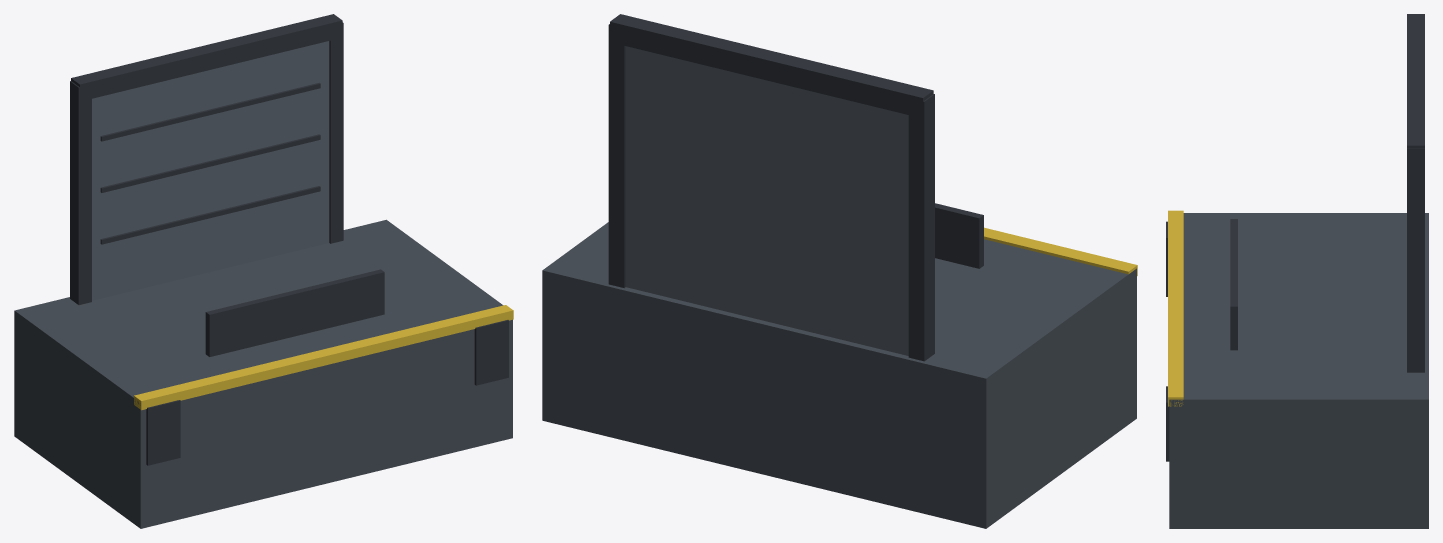
File: loading-dock.glb
3 renders of one model, left to right at view 1: azimuth 30°, elevation 25°; view 2: azimuth 150°, elevation 25°; view 3: azimuth 270°, elevation 25°, orthographic. The views are drawn at different scales.
Parts seen in each view (by area): view 1: platform, doorpanel, leveler, doorhead, edge, doorframe, doorframe.001, bumper, bumper.001, doorgroove.002, doorgroove, doorgroove.001; view 2: platform, doorpanel, doorhead, doorframe, doorframe.001, leveler, edge; view 3: platform, doorframe.001, edge, doorhead, leveler.
Part boxes in pixels (<box>): platform: <box>14,219,512,528</box>; doorpanel: <box>92,41,329,300</box>; leveler: <box>205,269,384,356</box>; doorhead: <box>71,14,342,100</box>; edge: <box>134,305,513,410</box>; doorframe: <box>70,81,91,304</box>; doorframe.001: <box>329,22,343,243</box>; bumper: <box>146,400,180,465</box>; bumper.001: <box>474,320,508,385</box>; doorgroove.002: <box>100,82,320,141</box>; doorgroove: <box>100,186,320,244</box>; doorgroove.001: <box>100,134,320,192</box>; platform: <box>542,222,1136,528</box>; doorpanel: <box>625,46,908,355</box>; doorhead: <box>610,14,933,116</box>; doorframe: <box>908,94,934,361</box>; doorframe.001: <box>608,24,625,287</box>; leveler: <box>935,203,983,268</box>; edge: <box>984,227,1137,275</box>; platform: <box>1169,213,1428,528</box>; doorframe.001: <box>1407,148,1424,372</box>; edge: <box>1168,210,1183,406</box>; doorhead: <box>1407,14,1424,148</box>; leveler: <box>1230,219,1237,350</box>.
Size of the model in its own units: 3.4 by 3.03 by 2.02.
